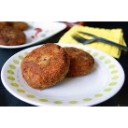cutlet: (23, 44, 69, 86), (62, 46, 97, 78)
